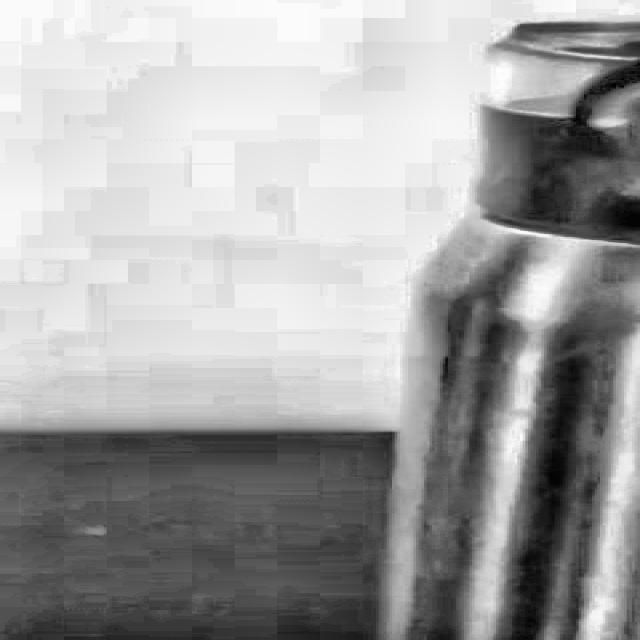bottle: (376, 17, 640, 640)
